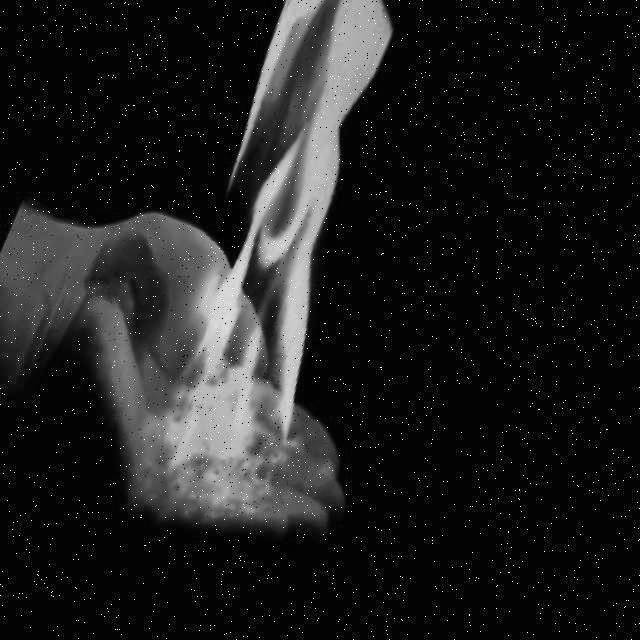Fire: (83, 0, 473, 503)
